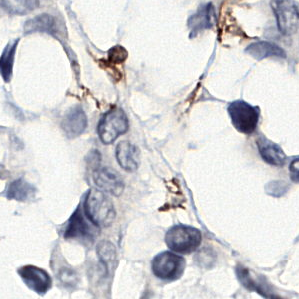Lymphocyte: (102, 42, 130, 65)
